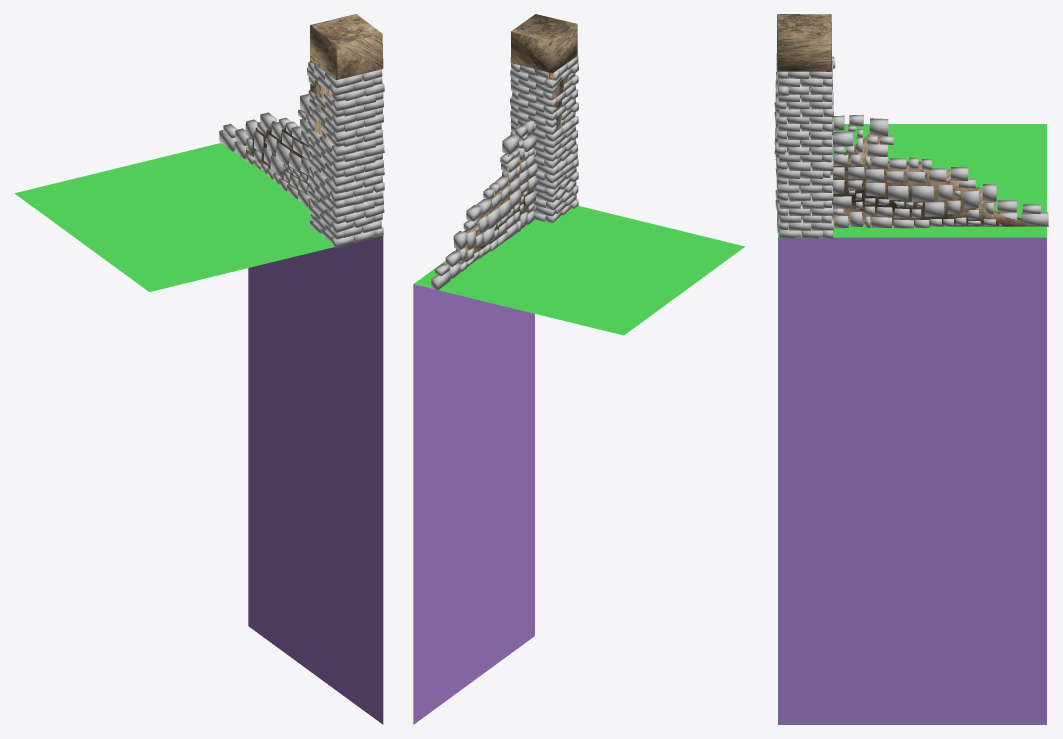
Rendered from Wall_1Lod2.fbx.
3 views of the same model, side by side, from view 1: azimuth 30°, elevation 25°; view 2: azimuth 150°, elevation 25°; view 3: azimuth 270°, elevation 25° (orthographic). The views are drawn at different scales.
Parts seen in each view (by area): view 1: Wall_1Lod2; view 2: Wall_1Lod2; view 3: Wall_1Lod2.
Part boxes in pixels (<box>): Wall_1Lod2: <box>15,14,384,724</box>; Wall_1Lod2: <box>413,14,745,724</box>; Wall_1Lod2: <box>774,14,1048,724</box>.
Size of the model in its own units: 404 by 1130 by 408.
